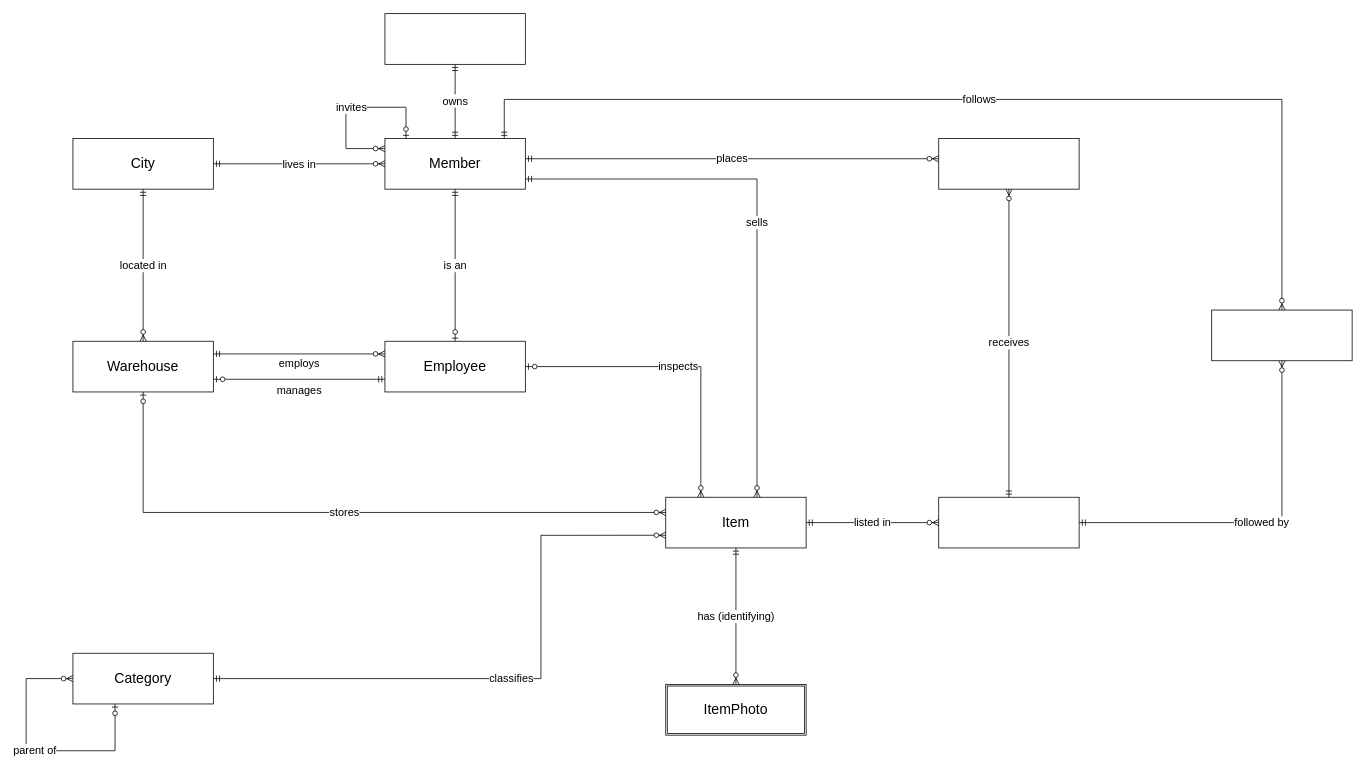
The diagram is 1366 pixels wide and 771 high, and some of its shapes have lost their labels. The shapes that lost their labels are listed below. From the top down, each one's box as (x1, y1, x2, y2) in pixels, then its label:
(384, 13, 525, 64): Wallet
(938, 138, 1079, 189): Bid
(1211, 309, 1352, 361): AuctionFollower
(938, 496, 1079, 548): Auction
